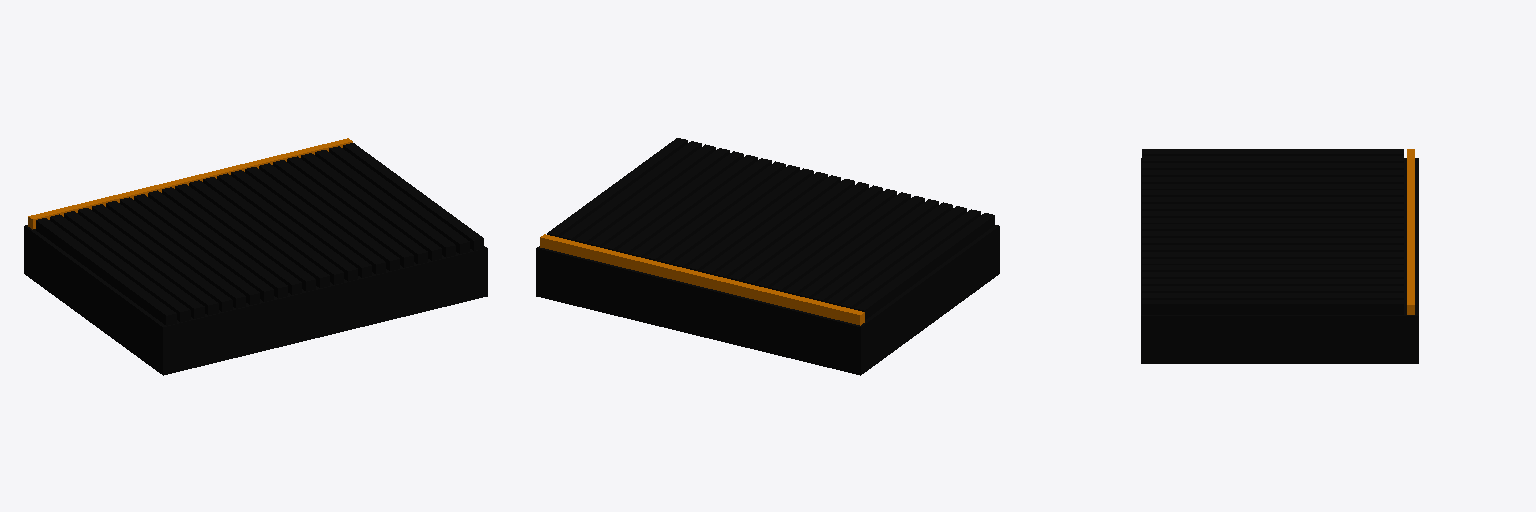
File: Tile.obj
3 renders of one model, left to right at view 1: azimuth 30°, elevation 25°; view 2: azimuth 150°, elevation 25°; view 3: azimuth 270°, elevation 25°, orthographic.
Parts seen in each view (by area): view 1: Cube.001, Cube, Cube.002; view 2: Cube.001, Cube, Cube.002; view 3: Cube.001, Cube, Cube.002.
Part boxes in pixels (x1,y1,x2,y2): Cube.001: (36, 143, 483, 325); Cube: (24, 225, 487, 375); Cube.002: (28, 138, 352, 229); Cube.001: (547, 138, 994, 319); Cube: (536, 225, 999, 375); Cube.002: (540, 234, 864, 325); Cube.001: (1142, 149, 1403, 314); Cube: (1141, 158, 1418, 363); Cube.002: (1407, 149, 1414, 314).
Size of the model in its own units: 0.7896 by 0.1358 by 0.585.